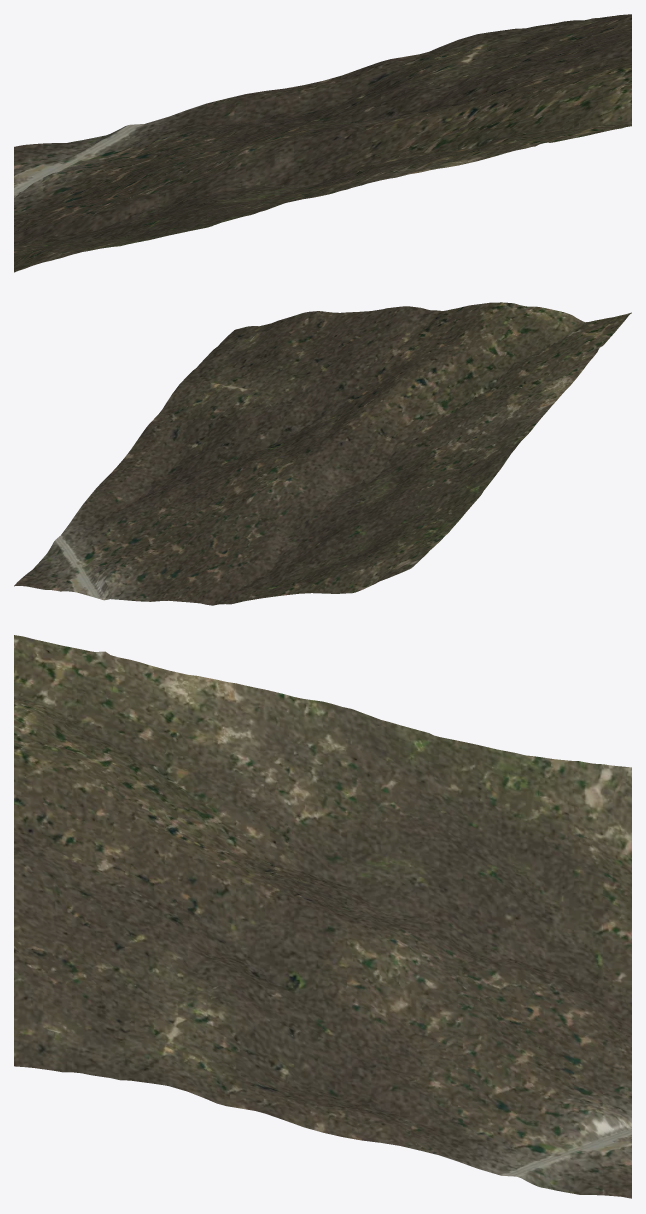
3 views of the same model, one above another, from view 1: azimuth 90°, elevation 25°; view 2: azimuth 150°, elevation 25°; view 3: azimuth 270°, elevation 25° (orthographic). The views are drawn at different scales.
Size of the model in its own units: 500 by 252 by 481.
1 material, 1 textured.
